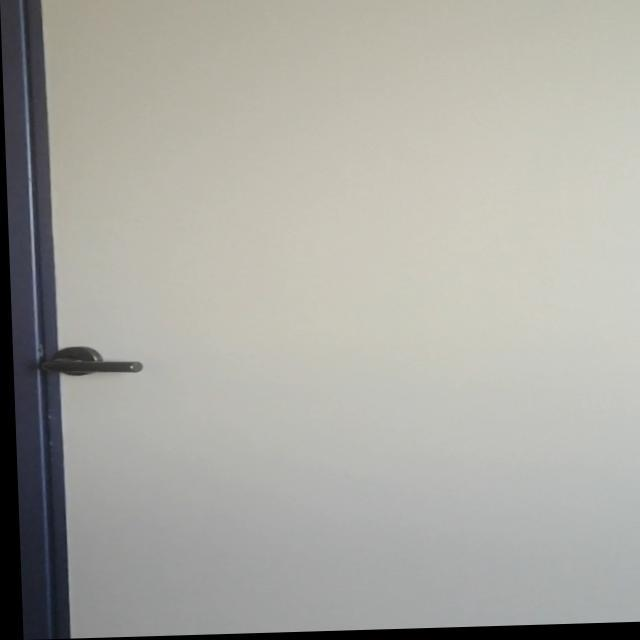door_handle: (39, 353, 143, 377)
